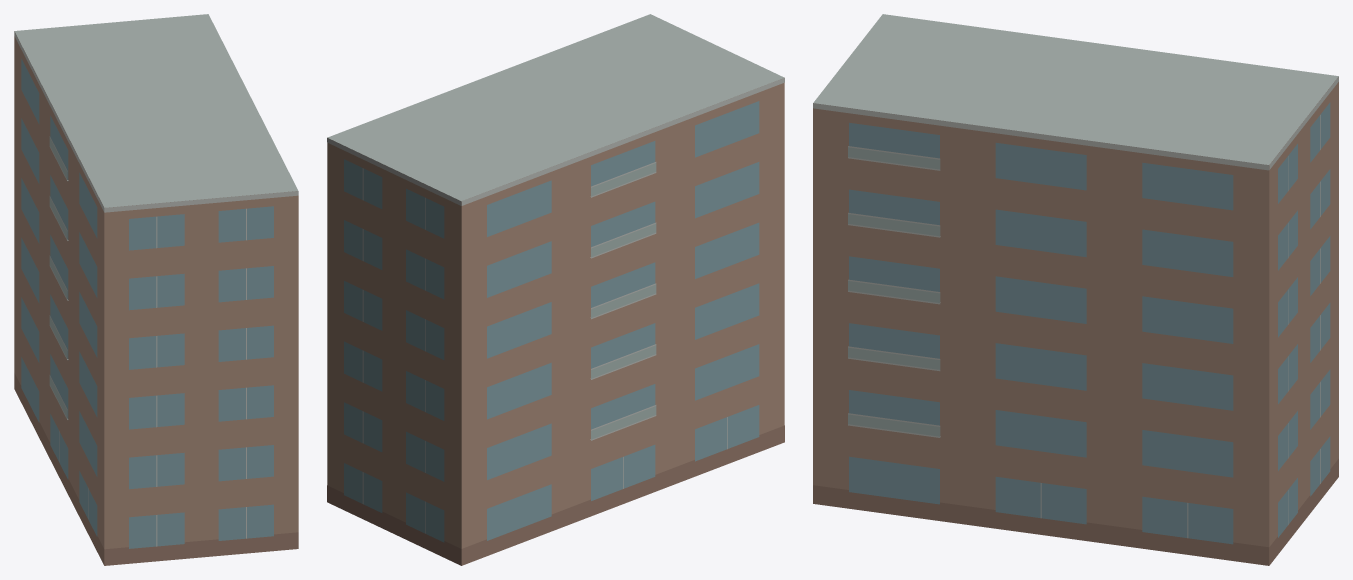
File: survey-upis-32752679.glb
The picture shows the model from 3 angles, left to right: view 1: azimuth 30°, elevation 25°; view 2: azimuth 150°, elevation 25°; view 3: azimuth 270°, elevation 25°; orthographic projection. The views are drawn at different scales.
Parts seen in each view (by area): view 1: survey-upis-32752679.tmp; view 2: survey-upis-32752679.tmp; view 3: survey-upis-32752679.tmp.
Part boxes in pixels (box(x1,y1,x2,y2)): survey-upis-32752679.tmp: box(14, 14, 298, 565); survey-upis-32752679.tmp: box(327, 14, 784, 565); survey-upis-32752679.tmp: box(813, 14, 1338, 565).
Bounding box in the file's own units: 14.81 × 18.3 × 21.77.
